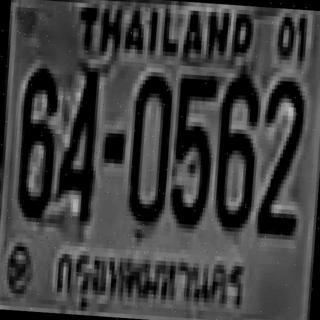N00: (125, 71, 171, 222)
N02: (254, 76, 303, 236)
N04: (54, 64, 100, 224)
N05: (167, 72, 216, 228)
N06: (212, 68, 258, 228), (14, 63, 57, 214)
P04: (47, 238, 256, 320)
